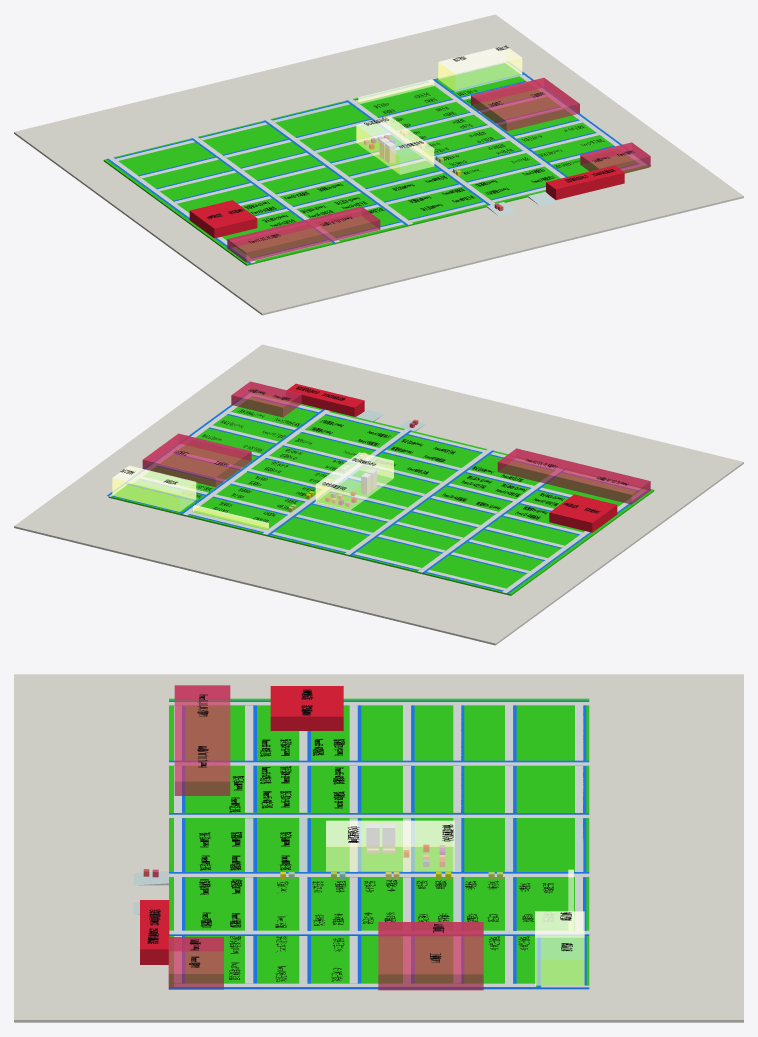
File: factorylogisticlayoutdraco.glb
3 renders of one model, top to bottom at view 1: azimuth 30°, elevation 25°; view 2: azimuth 150°, elevation 25°; view 3: azimuth 270°, elevation 25°, orthographic. The views are drawn at different scales.
Parts seen in each view (by area): view 1: 地面, 主厂区地面, PowerVPI-1ST.001, IndustrialVPI, 主仓库区, 成品立体库40-47, PowerVPI-1ST.003, PowerVPI-1ST.002, PowerVPI-1ST, 通道.002, 通道, 通道.003 (+4 smaller); view 2: 地面, 主厂区地面, PowerVPI-1ST.001, IndustrialVPI, 主仓库区, 成品立体库40-47, PowerVPI-1ST.003, PowerVPI-1ST, PowerVPI-1ST.002, 通道.002, 通道, 通道.003 (+4 smaller); view 3: 地面, 主厂区地面, IndustrialVPI, 主仓库区, PowerVPI-1ST.001, 成品立体库40-47, PowerVPI-1ST.003, PowerVPI-1ST, PowerVPI-1ST.002, 通道.002, 通道.003, 通道.001 (+9 smaller).
Boxes of the visible parts, x1=… form: 地面: x1=14, y1=14, x2=743, y2=315; 主厂区地面: x1=103, y1=62, x2=648, y2=265; PowerVPI-1ST.001: x1=227, y1=206, x2=380, y2=262; IndustrialVPI: x1=471, y1=77, x2=579, y2=131; 主仓库区: x1=356, y1=116, x2=434, y2=174; 成品立体库40-47: x1=438, y1=45, x2=522, y2=91; PowerVPI-1ST.003: x1=189, y1=200, x2=257, y2=238; PowerVPI-1ST.002: x1=546, y1=165, x2=624, y2=199; PowerVPI-1ST: x1=580, y1=142, x2=650, y2=172; 通道.002: x1=266, y1=119, x2=412, y2=224; 通道: x1=429, y1=80, x2=565, y2=178; 通道.003: x1=193, y1=137, x2=339, y2=242; 地面: x1=14, y1=344, x2=743, y2=645; 主厂区地面: x1=108, y1=392, x2=654, y2=595; PowerVPI-1ST.001: x1=497, y1=448, x2=650, y2=504; IndustrialVPI: x1=142, y1=433, x2=251, y2=487; 主仓库区: x1=315, y1=452, x2=393, y2=510; 成品立体库40-47: x1=112, y1=465, x2=196, y2=511; PowerVPI-1ST.003: x1=549, y1=494, x2=617, y2=532; PowerVPI-1ST: x1=231, y1=381, x2=301, y2=417; PowerVPI-1ST.002: x1=286, y1=383, x2=364, y2=416; 通道.002: x1=345, y1=449, x2=491, y2=554; 通道: x1=183, y1=409, x2=329, y2=515; 通道.003: x1=418, y1=468, x2=562, y2=572; 地面: x1=14, y1=674, x2=743, y2=1022; 主厂区地面: x1=169, y1=698, x2=589, y2=989; IndustrialVPI: x1=378, y1=922, x2=483, y2=990; 主仓库区: x1=326, y1=820, x2=454, y2=871; PowerVPI-1ST.001: x1=174, y1=685, x2=230, y2=795; 成品立体库40-47: x1=535, y1=911, x2=584, y2=985; PowerVPI-1ST.003: x1=270, y1=686, x2=343, y2=730; PowerVPI-1ST: x1=168, y1=937, x2=223, y2=989; PowerVPI-1ST.002: x1=140, y1=900, x2=169, y2=964; 通道.002: x1=169, y1=814, x2=589, y2=817; 通道.003: x1=169, y1=762, x2=589, y2=765; 通道.001: x1=169, y1=873, x2=589, y2=876.
Bounding box in the file's own units: 280 × 14.01 × 250.
